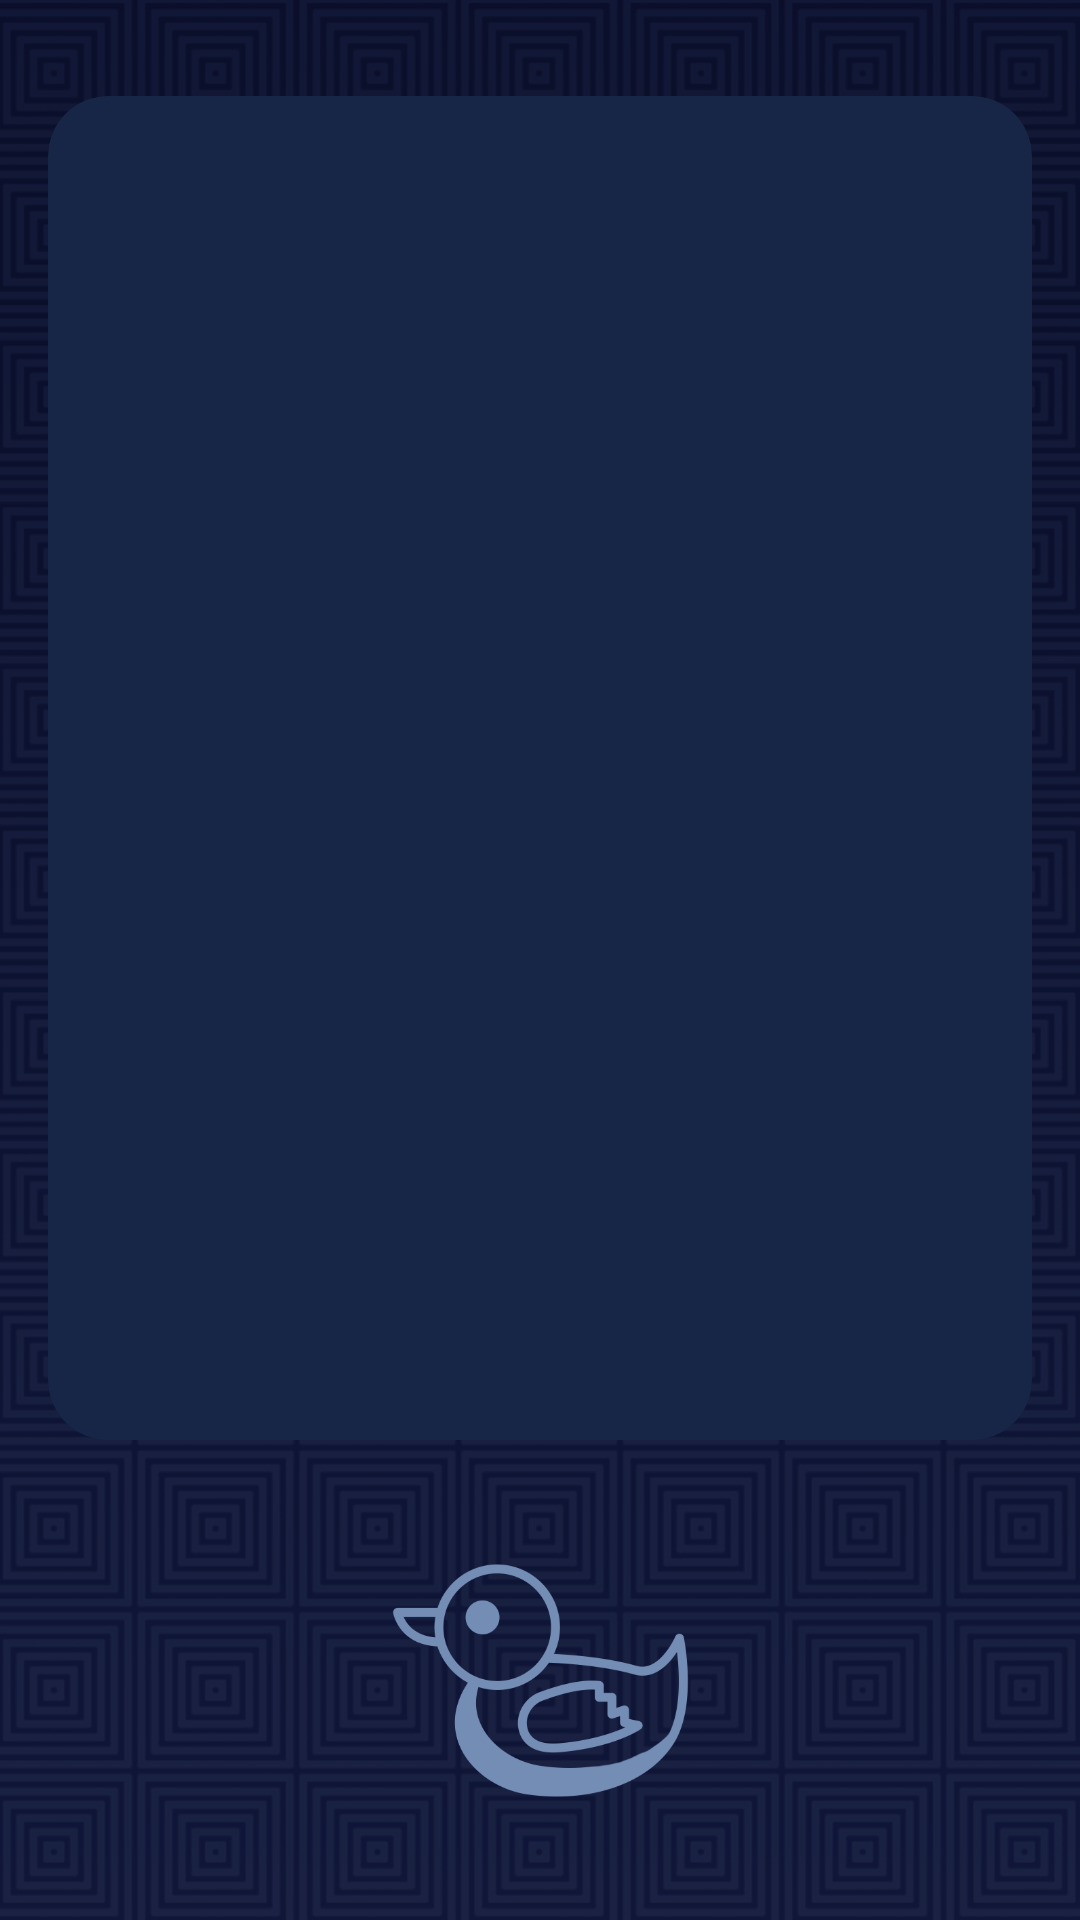

Named icons in this screenshot (1080 x 1920) and their centers, (x,y):
duck: (540,1680)
